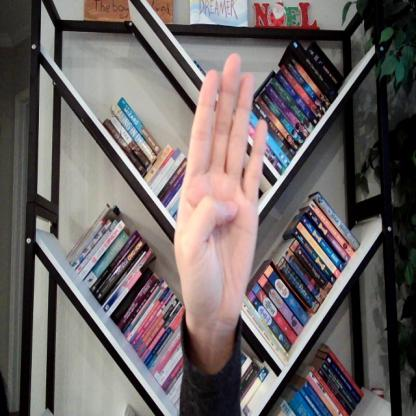four: (176, 51, 269, 336)
